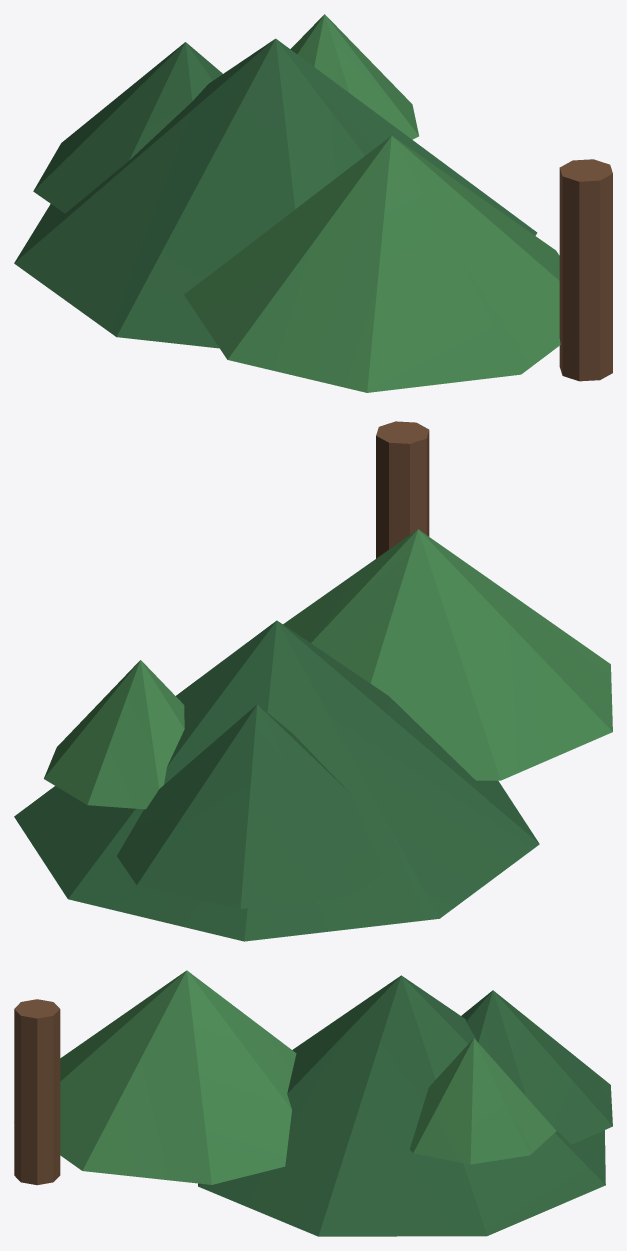
The model's file is pine-tree.glb.
3 views of the same model, one above another, from view 1: azimuth 30°, elevation 25°; view 2: azimuth 150°, elevation 25°; view 3: azimuth 270°, elevation 25° (orthographic). The views are drawn at different scales.
Visible parts, largest first — view 1: Pine_Foliage_2, Pine_Foliage_1, Pine_Trunk, Pine_Foliage_3, Pine_Foliage_4; view 2: Pine_Foliage_1, Pine_Foliage_2, Pine_Foliage_3, Pine_Foliage_4, Pine_Trunk; view 3: Pine_Foliage_1, Pine_Foliage_2, Pine_Foliage_4, Pine_Foliage_3, Pine_Trunk.
Part boxes in pixels (box(x1,y1,x2,y2)): Pine_Foliage_2: box(184, 135, 560, 392); Pine_Foliage_1: box(14, 38, 537, 348); Pine_Trunk: box(559, 159, 612, 381); Pine_Foliage_3: box(33, 42, 222, 213); Pine_Foliage_4: box(290, 14, 418, 139); Pine_Foliage_1: box(14, 620, 539, 941); Pine_Foliage_2: box(283, 529, 612, 780); Pine_Foliage_3: box(117, 704, 383, 909); Pine_Foliage_4: box(44, 660, 184, 809); Pine_Trunk: box(376, 421, 429, 558); Pine_Foliage_1: box(198, 975, 605, 1236); Pine_Foliage_2: box(60, 970, 296, 1184); Pine_Foliage_4: box(409, 1038, 556, 1164); Pine_Foliage_3: box(461, 990, 612, 1144); Pine_Trunk: box(14, 999, 60, 1185).
Size of the model in its own units: 2.22 by 1.07 by 3.26.
